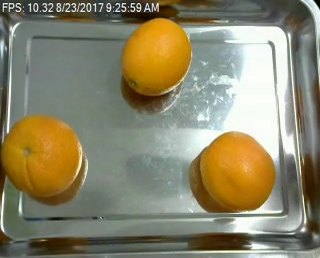Orange: (1, 115, 82, 197), (198, 130, 276, 211), (120, 16, 193, 97)
